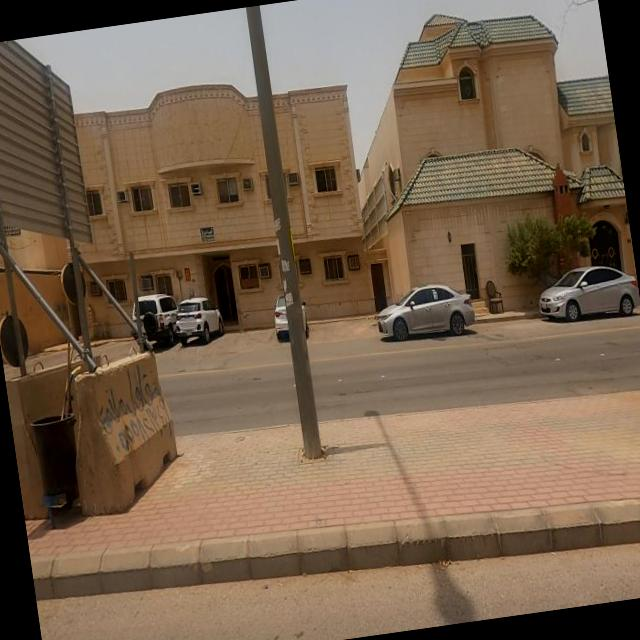debris: (32, 304, 238, 515)
